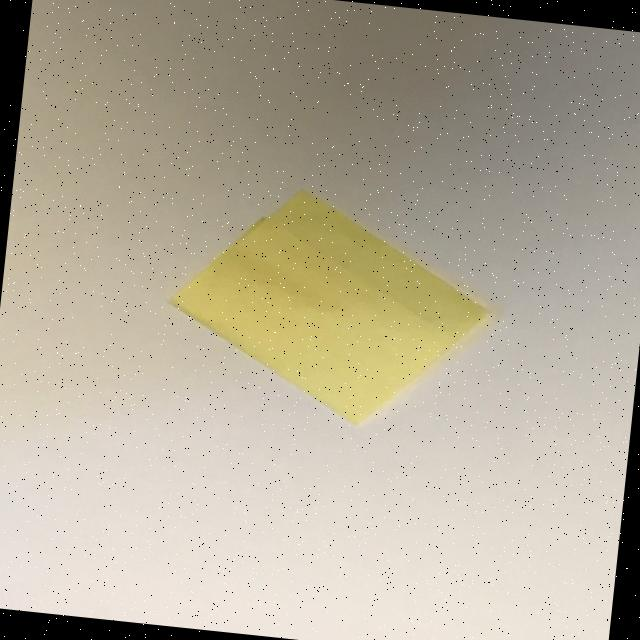paper: (157, 174, 502, 439)
